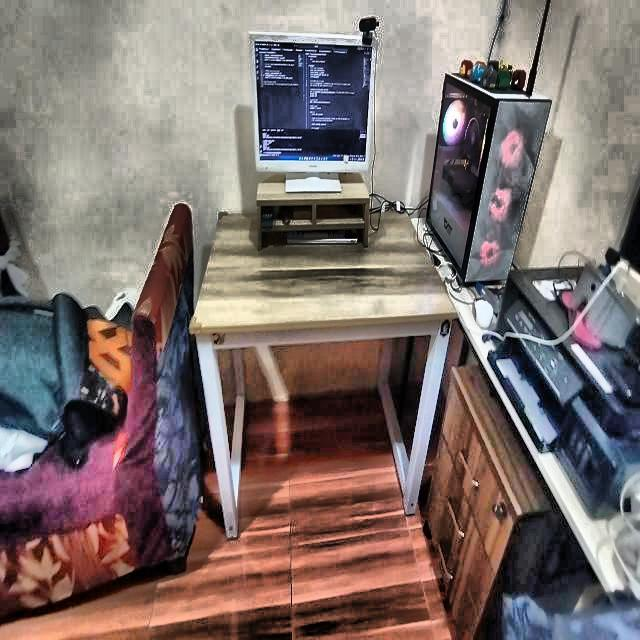mesa: (186, 206, 457, 540)
